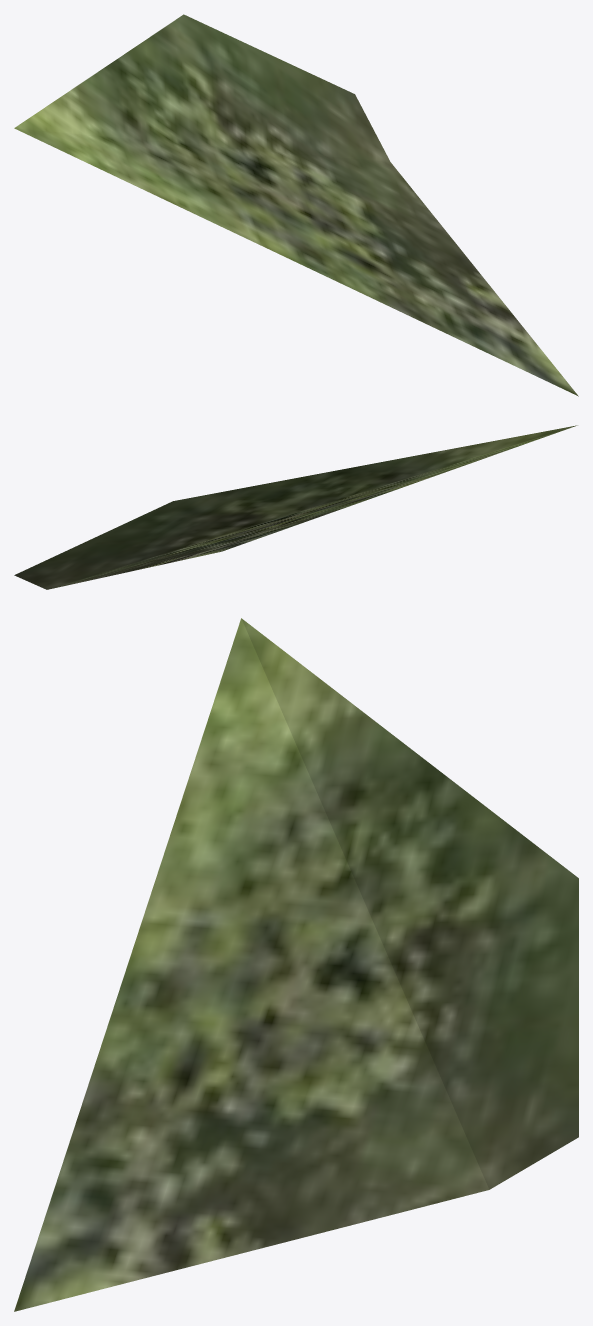
The picture shows the model from 3 angles, top to bottom: view 1: azimuth 30°, elevation 25°; view 2: azimuth 150°, elevation 25°; view 3: azimuth 270°, elevation 25°; orthographic projection. The views are drawn at different scales.
Bounding box in the file's own units: 2.07 × 1.32 × 1.69.
1 material, 1 textured.
